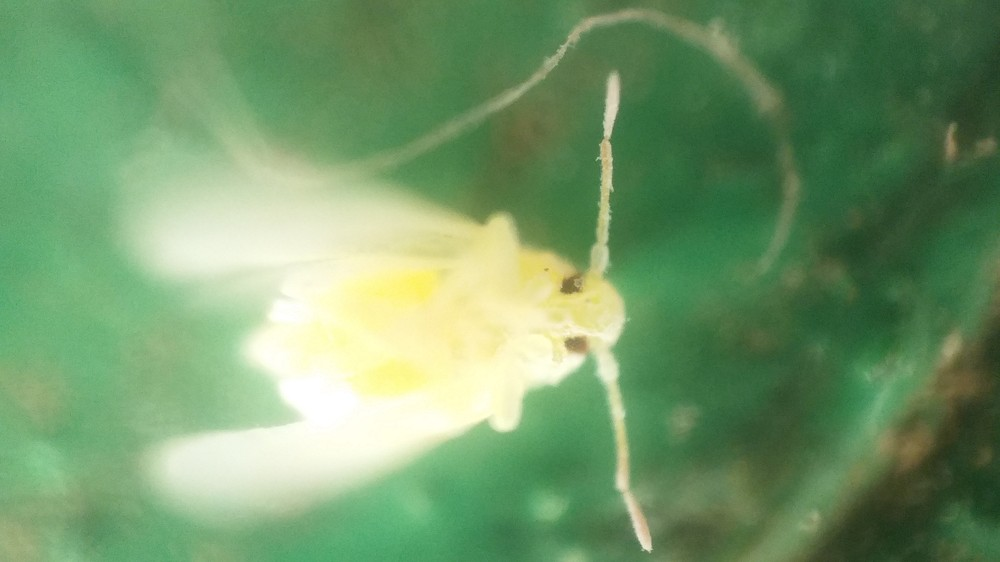Mosca Blanca: (108, 51, 672, 562)
